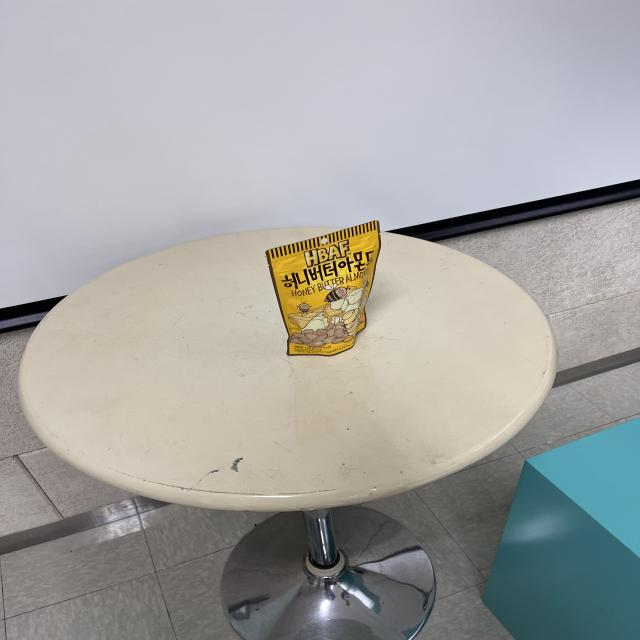honeyAmond: (263, 216, 384, 362)
